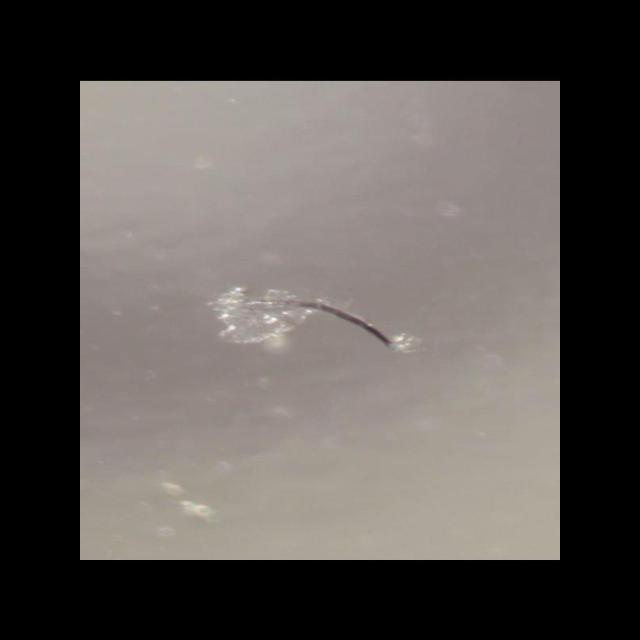Fibre: (206, 284, 424, 352)
